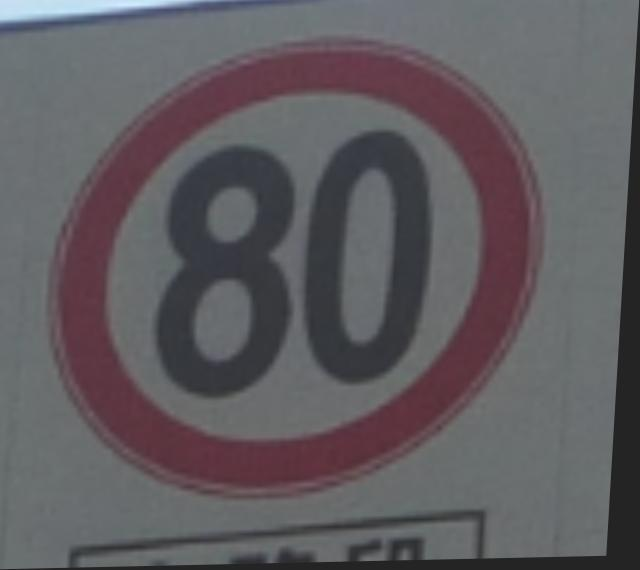limit80: (23, 18, 572, 511)
